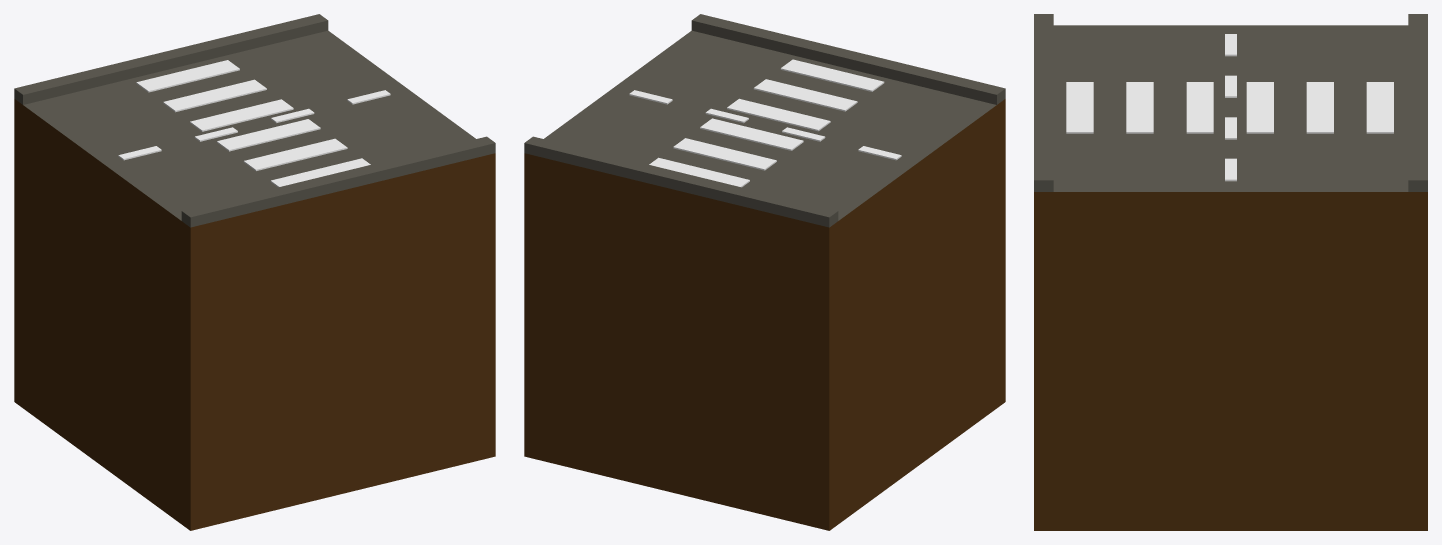
The model's file is CityRoadStraightCube_01.fbx.
3 views of the same model, side by side, from view 1: azimuth 30°, elevation 25°; view 2: azimuth 150°, elevation 25°; view 3: azimuth 270°, elevation 25° (orthographic). The views are drawn at different scales.
Visible parts, largest first — view 1: CityRoadStraightCube_01; view 2: CityRoadStraightCube_01; view 3: CityRoadStraightCube_01.
Part boxes in pixels (box(x1,y1,x2,y2)): CityRoadStraightCube_01: box(14, 14, 495, 530); CityRoadStraightCube_01: box(524, 14, 1005, 530); CityRoadStraightCube_01: box(1034, 14, 1427, 530).
Bounding box in the file's own units: 1 × 0.9818 × 1.
